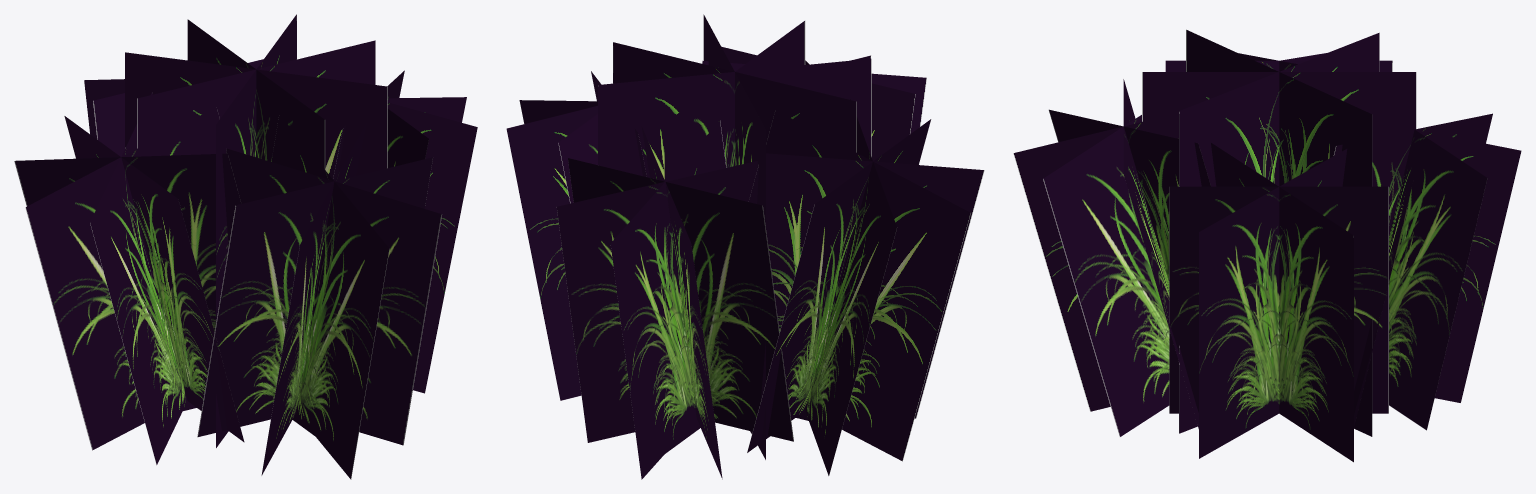
Rendered from low poly grass ver 2.fbx.
3 views of the same model, side by side, from view 1: azimuth 30°, elevation 25°; view 2: azimuth 150°, elevation 25°; view 3: azimuth 270°, elevation 25° (orthographic). The views are drawn at different scales.
Parts seen in each view (by area): view 1: grassAS_01; view 2: grassAS_01; view 3: grassAS_01.
Boxes of the visible parts, x1,y1,x2,y2 form: grassAS_01: [14, 14, 477, 479]; grassAS_01: [506, 14, 984, 479]; grassAS_01: [1013, 29, 1521, 462].
Bounding box in the file's own units: 117 × 86.3 × 117.
Materials: 1 (1 with a texture image).
